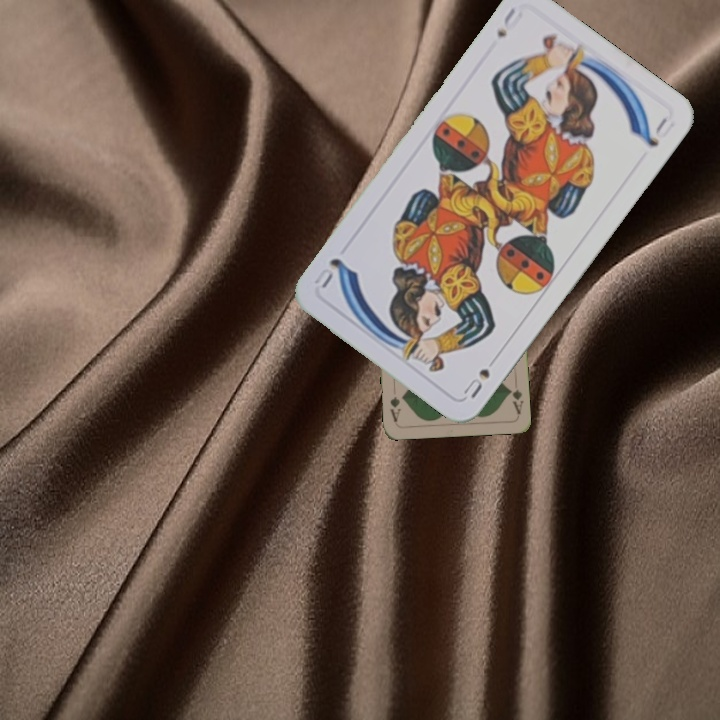GA: (505, 384, 526, 416)
SU: (492, 3, 526, 41), (459, 364, 493, 401)
